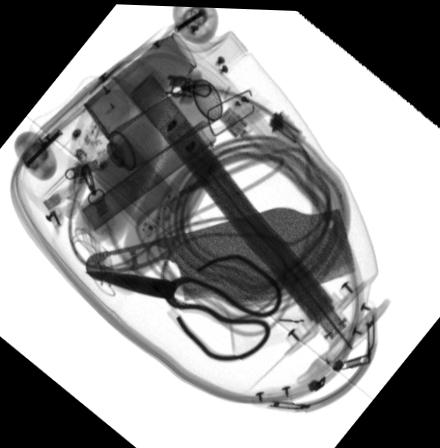Knife: (83, 200, 354, 302)
Powerbank: (86, 128, 188, 238)
Scissors: (83, 251, 282, 360)
Sprayer: (85, 78, 222, 187)
